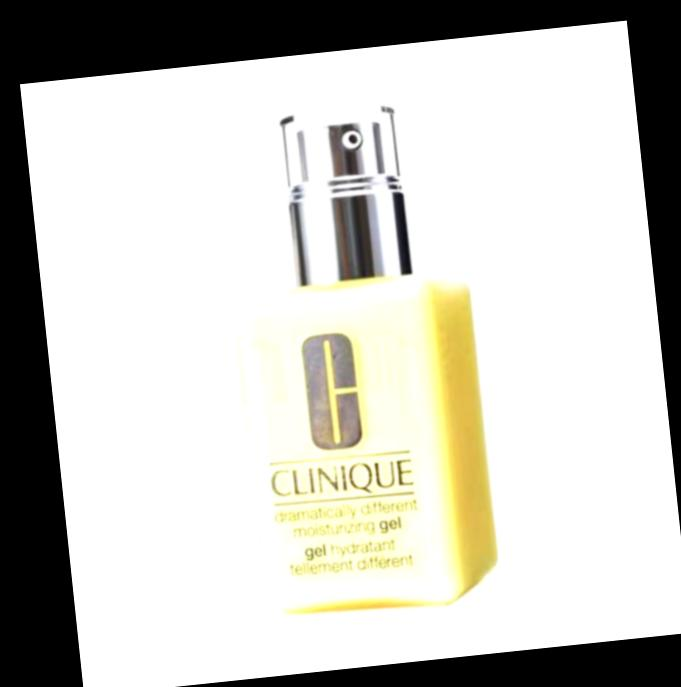cosmetic: (211, 91, 503, 619)
